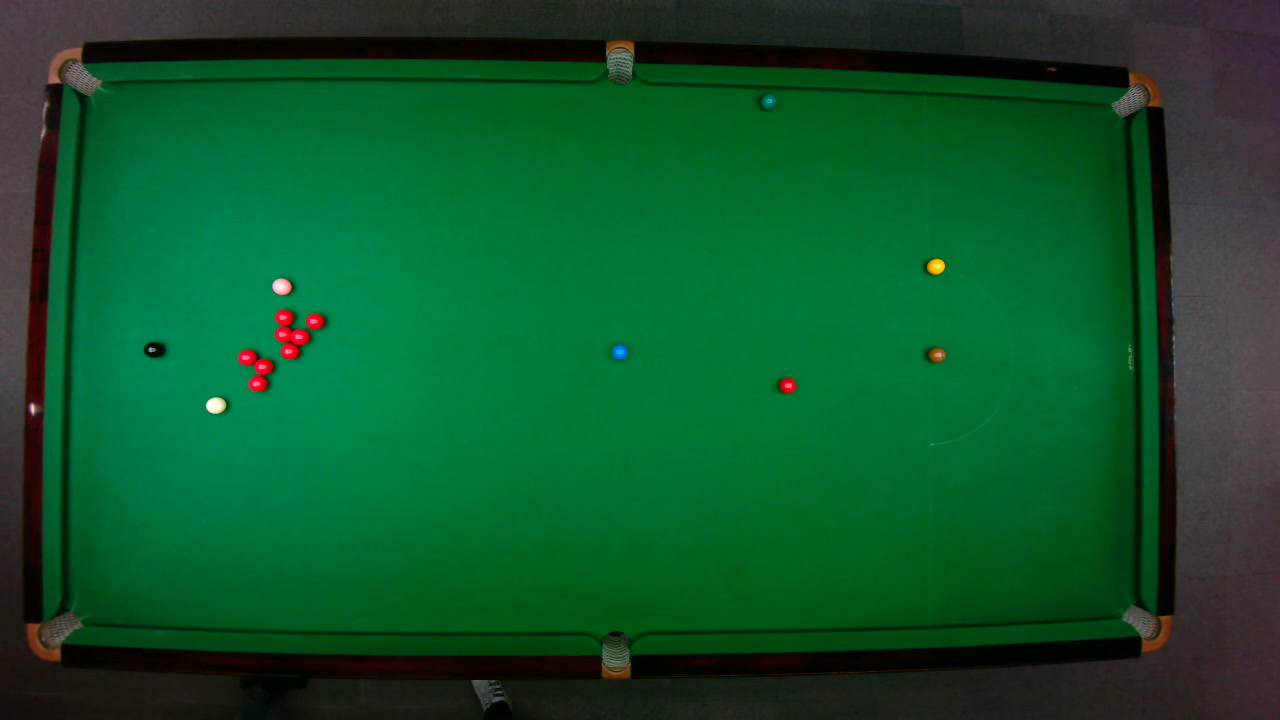bag: (24, 609, 83, 662), (45, 46, 101, 96), (1119, 603, 1172, 652), (1108, 71, 1161, 118), (600, 629, 629, 680), (605, 38, 633, 85)
black: (142, 340, 164, 358)
blue: (610, 342, 628, 360)
brown: (926, 346, 946, 362)
green: (759, 92, 776, 110)
pink: (270, 276, 292, 295)
red: (288, 326, 310, 345), (273, 307, 294, 326), (252, 357, 274, 375), (236, 347, 258, 365), (246, 374, 268, 392), (304, 311, 324, 330), (279, 342, 300, 359), (777, 375, 796, 393), (273, 325, 293, 342)
white: (204, 395, 227, 414)
yellow: (925, 257, 945, 275)
zone: (927, 264, 1013, 445)
